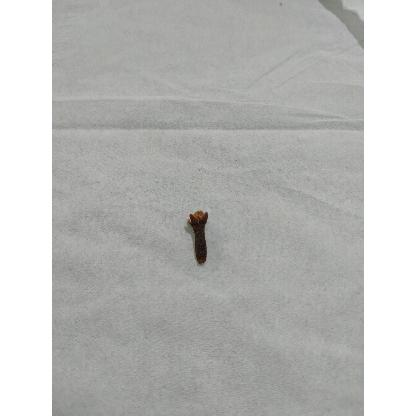sedang: (187, 211, 209, 266)
